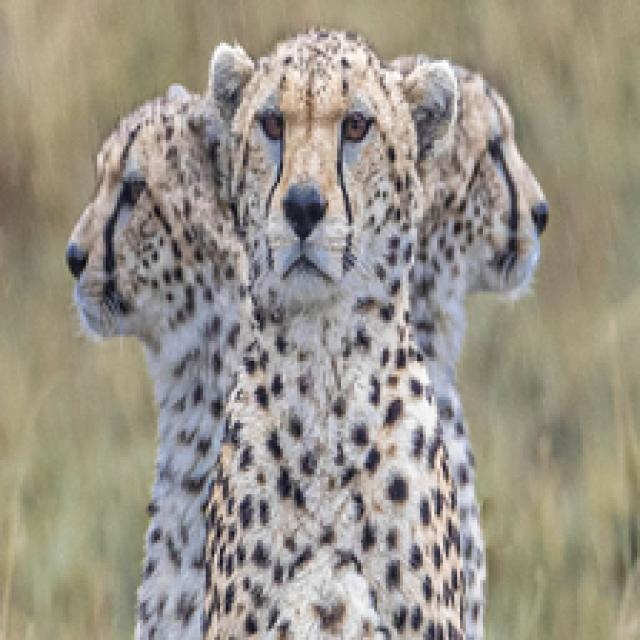cheetah: (225, 0, 424, 640), (52, 72, 217, 640), (417, 35, 566, 640)
